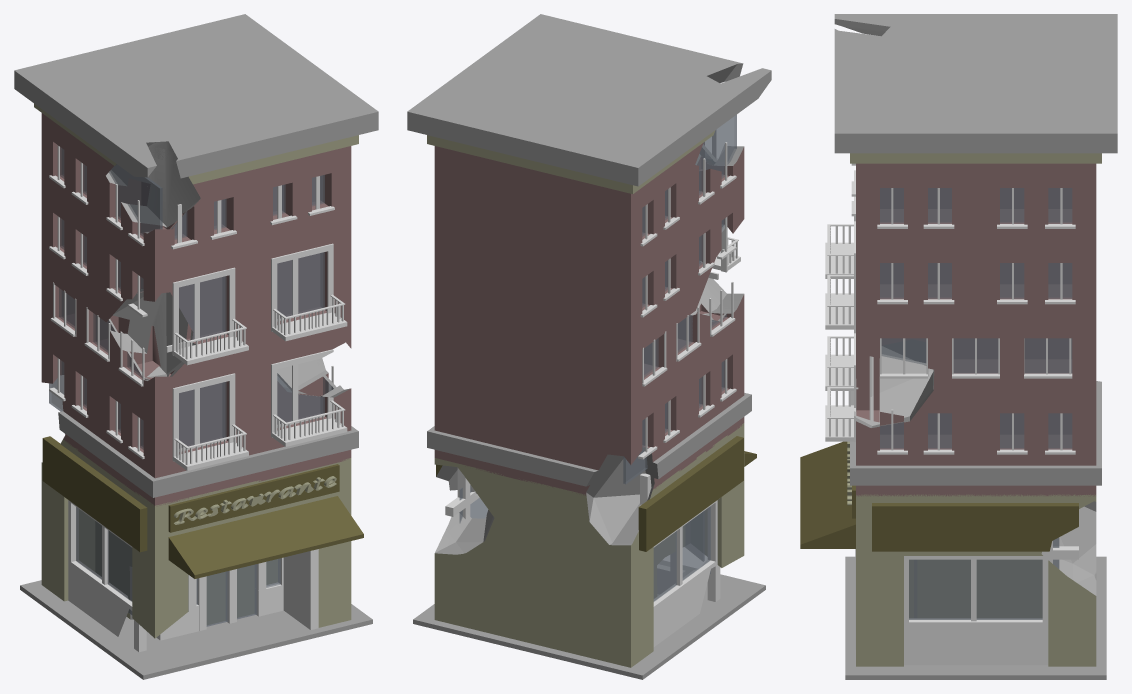
File: edif1.1D.fbx
3 renders of one model, left to right at view 1: azimuth 30°, elevation 25°; view 2: azimuth 150°, elevation 25°; view 3: azimuth 270°, elevation 25°, orthographic. The views are drawn at different scales.
Parts seen in each view (by area): view 1: polySurface252; view 2: polySurface252; view 3: polySurface252.
Part boxes in pixels (<box>): polySurface252: <box>14,14,378,679</box>; polySurface252: <box>407,14,771,679</box>; polySurface252: <box>800,14,1117,679</box>.
Size of the model in its own units: 1.66 by 3.54 by 1.86.
